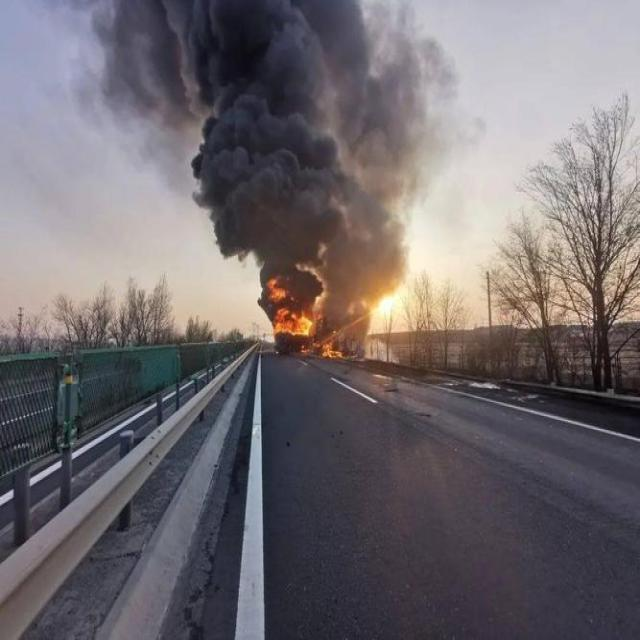Fire: (258, 280, 318, 338)
Smoke: (85, 0, 452, 290), (322, 292, 372, 357)
